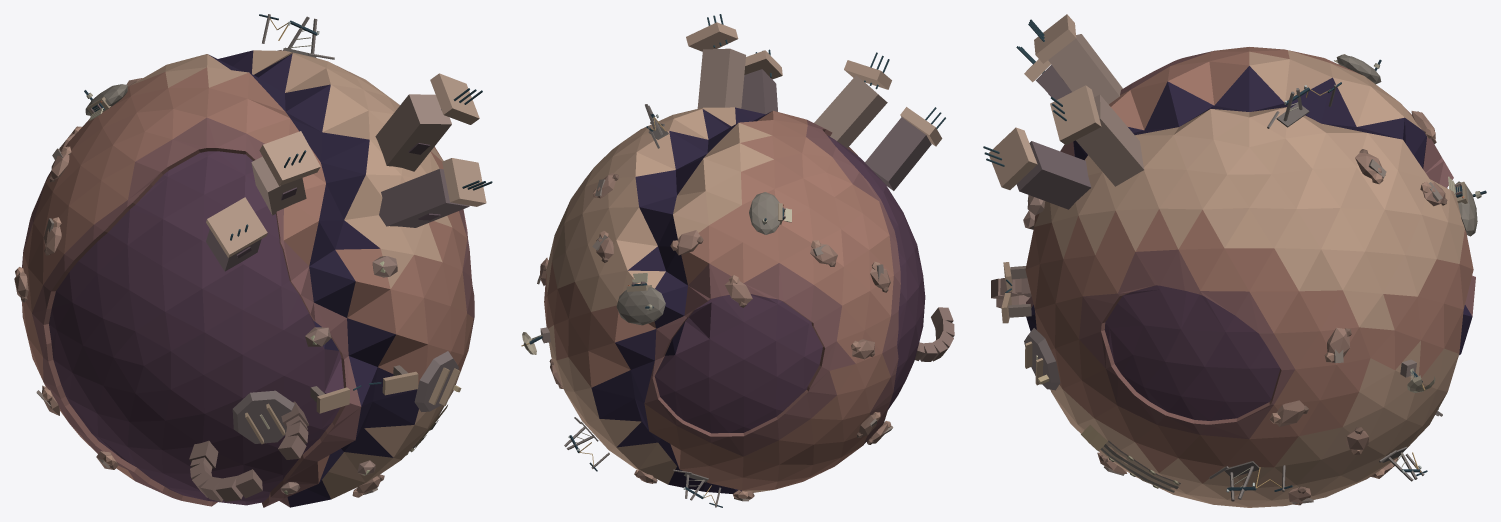
The model's file is earth-mobile.glb.
3 renders of one model, left to right at view 1: azimuth 30°, elevation 25°; view 2: azimuth 150°, elevation 25°; view 3: azimuth 270°, elevation 25°, orthographic. The views are drawn at different scales.
Parts seen in each view (by area): view 1: Terrain • modeled surfaces, Structures • modeled surfaces; view 2: Terrain • modeled surfaces, Structures • modeled surfaces; view 3: Terrain • modeled surfaces, Structures • modeled surfaces, Activity_salvage-crane_road • modeled surfaces.
Boxes of the visible parts, x1,y1,x2,y2 form: Terrain • modeled surfaces: (22,50,474,507); Structures • modeled surfaces: (14,14,492,501); Terrain • modeled surfaces: (544,107,925,493); Structures • modeled surfaces: (521,14,954,507); Terrain • modeled surfaces: (1025,47,1475,507); Structures • modeled surfaces: (983,14,1486,505); Activity_salvage-crane_road • modeled surfaces: (1081,424,1180,492).
Bounding box in the file's own units: 2.03 × 2.21 × 2.24.
